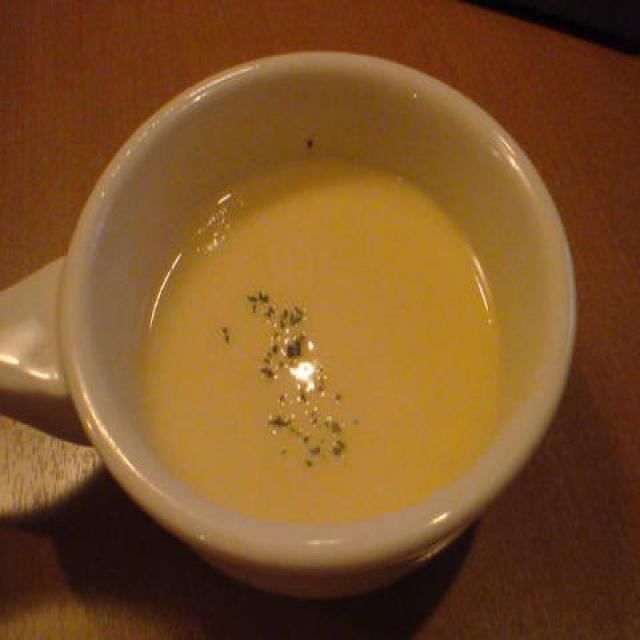汤锅炖物: (57, 48, 580, 594)
